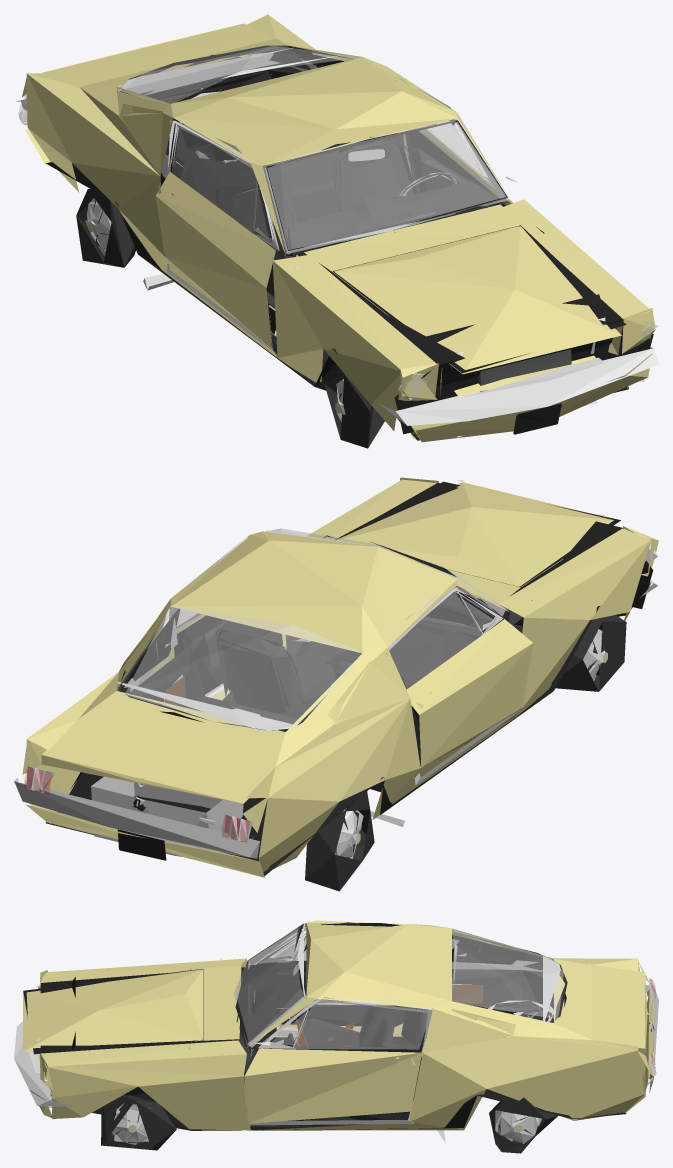
File: voiture_shelby.glb
3 views of the same model, one above another, from view 1: azimuth 30°, elevation 25°; view 2: azimuth 150°, elevation 25°; view 3: azimuth 270°, elevation 25° (orthographic). The views are drawn at different scales.
Visible parts, largest first — view 1: 230_T, 105027, 246_T, 57_T001, 261, 67_T, 16006_4, 245_T, 101, 18_T, 244, 16006 (+2 smaller); view 2: 230_T, 245_T, 105027, 57_T001, 261, 16006_4, 67_T, 18_T, 101, 16006, 222, 60; view 3: 230_T, 105027, 245_T, 57_T001, 67_T, 246_T, 261, 16006_4, 16006, 101, 18_T, 159 (+2 smaller).
Boxes of the visible parts, bbox=[...] form: 230_T: bbox=[22, 14, 655, 442]; 105027: bbox=[117, 49, 544, 361]; 246_T: bbox=[263, 119, 509, 253]; 57_T001: bbox=[16, 47, 658, 425]; 261: bbox=[46, 120, 653, 440]; 67_T: bbox=[172, 121, 482, 238]; 16006_4: bbox=[76, 188, 384, 448]; 245_T: bbox=[117, 46, 360, 104]; 101: bbox=[120, 45, 505, 308]; 18_T: bbox=[166, 176, 657, 437]; 244: bbox=[478, 349, 571, 391]; 16006: bbox=[85, 198, 426, 421]; 230_T: bbox=[22, 477, 658, 877]; 245_T: bbox=[124, 606, 364, 727]; 105027: bbox=[118, 535, 523, 766]; 57_T001: bbox=[14, 480, 657, 858]; 261: bbox=[46, 481, 653, 875]; 16006_4: bbox=[305, 615, 626, 891]; 67_T: bbox=[176, 591, 494, 689]; 18_T: bbox=[91, 542, 657, 856]; 101: bbox=[118, 600, 522, 731]; 16006: bbox=[335, 545, 650, 858]; 222: bbox=[117, 829, 166, 860]; 60: bbox=[25, 771, 248, 837]; 230_T: bbox=[23, 920, 653, 1130]; 105027: bbox=[189, 923, 566, 1127]; 245_T: bbox=[451, 929, 563, 1018]; 57_T001: bbox=[14, 922, 658, 1143]; 67_T: bbox=[274, 936, 427, 1049]; 246_T: bbox=[234, 924, 305, 1045]; 261: bbox=[23, 923, 654, 1130]; 16006_4: bbox=[101, 1095, 557, 1153]; 16006: bbox=[112, 1103, 541, 1146]; 101: bbox=[189, 933, 567, 1070]; 18_T: bbox=[28, 975, 413, 1125]; 159: bbox=[452, 985, 483, 1003].
Size of the model in its own units: 1.72 by 1.32 by 4.6.
